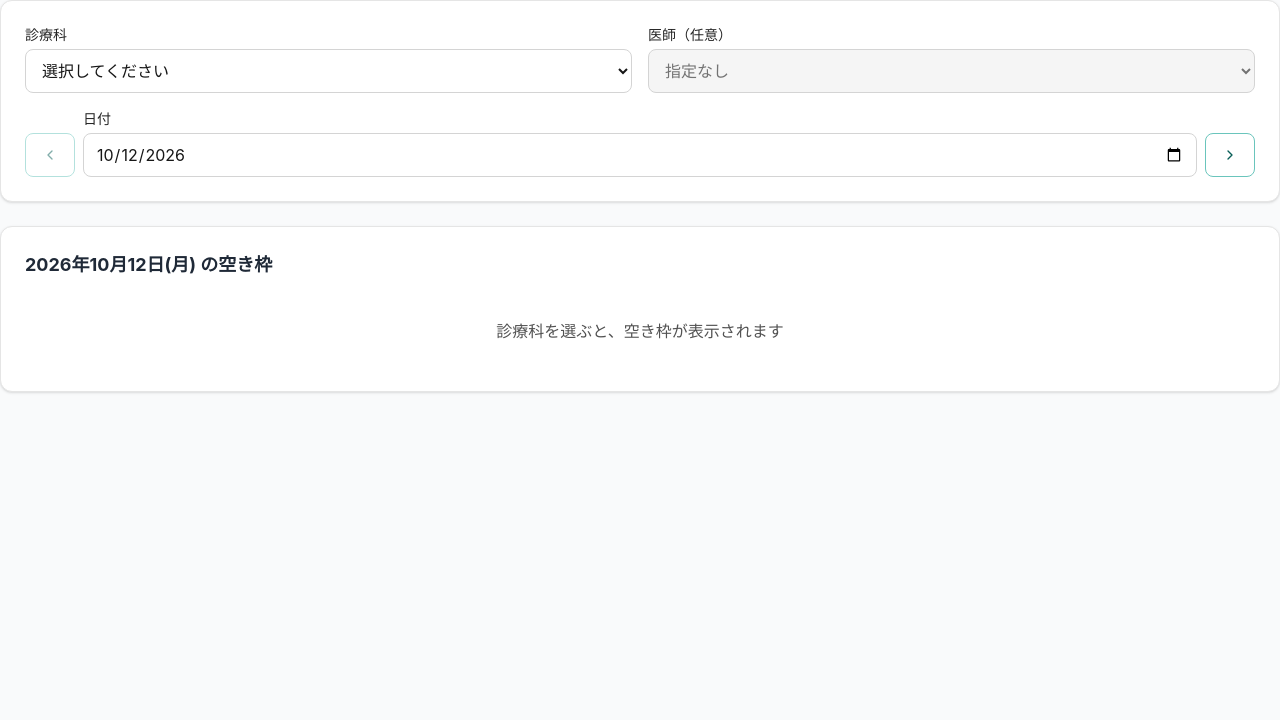
Test: BookingFlow（予約の流れ） › 予約の確定 › 未ログインならログインを案内し、予約フォームは出さない
The image size is (1280, 720).
Select "内科" in the dropdown labelled "診療科": (328, 71) top-left (25, 49), bottom-right (632, 93)
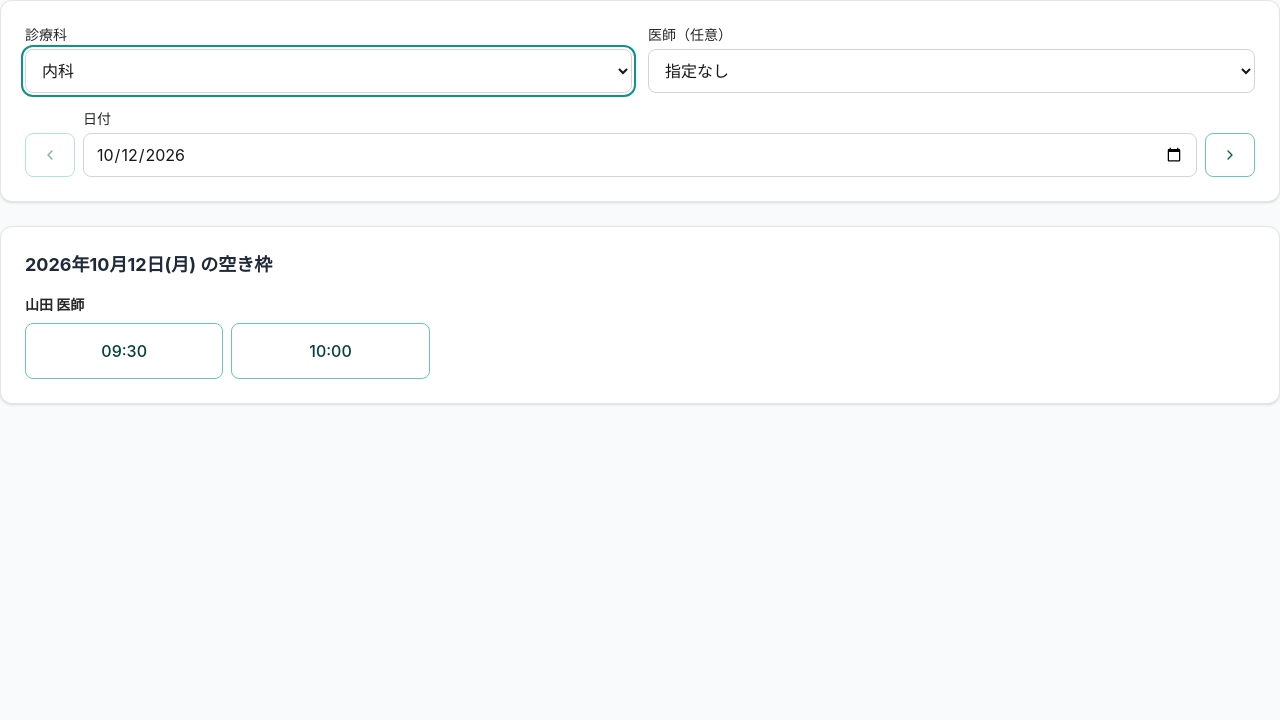
Click the button "09:30": (124, 351) top-left (25, 323), bottom-right (223, 379)
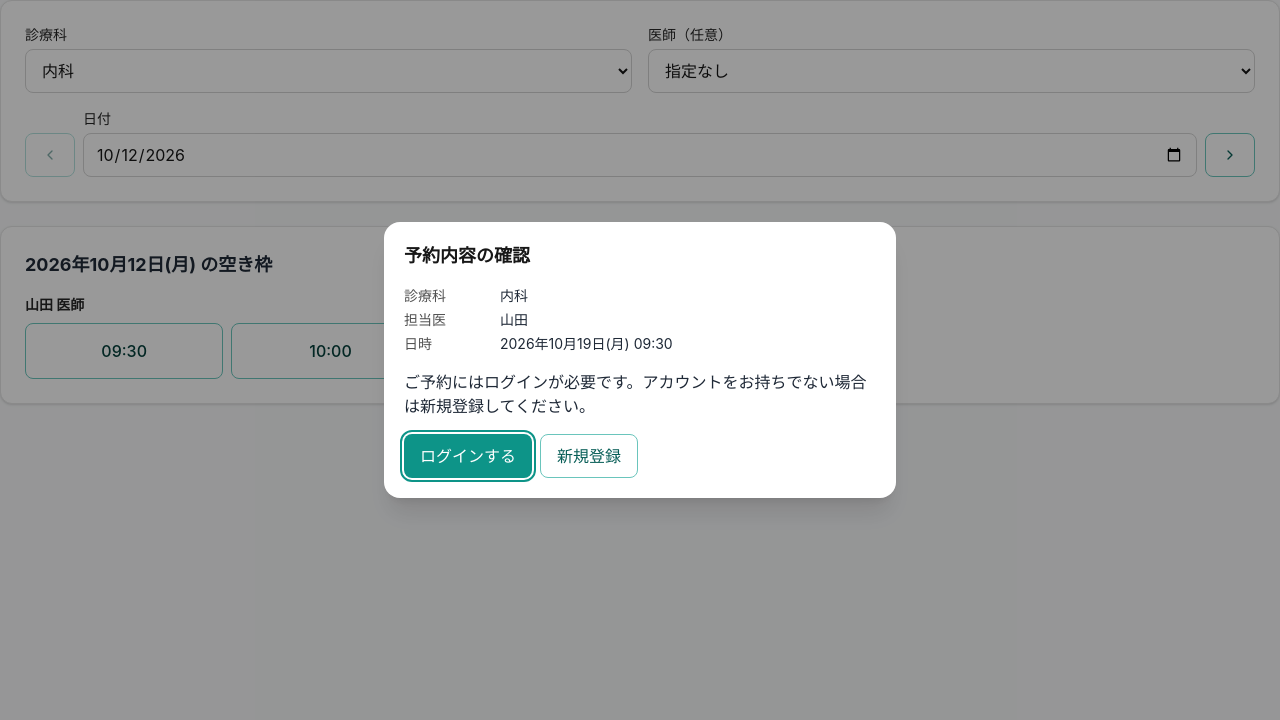
Check: the link "ログインする" is shown, box top-left (404, 434), bottom-right (532, 478)
